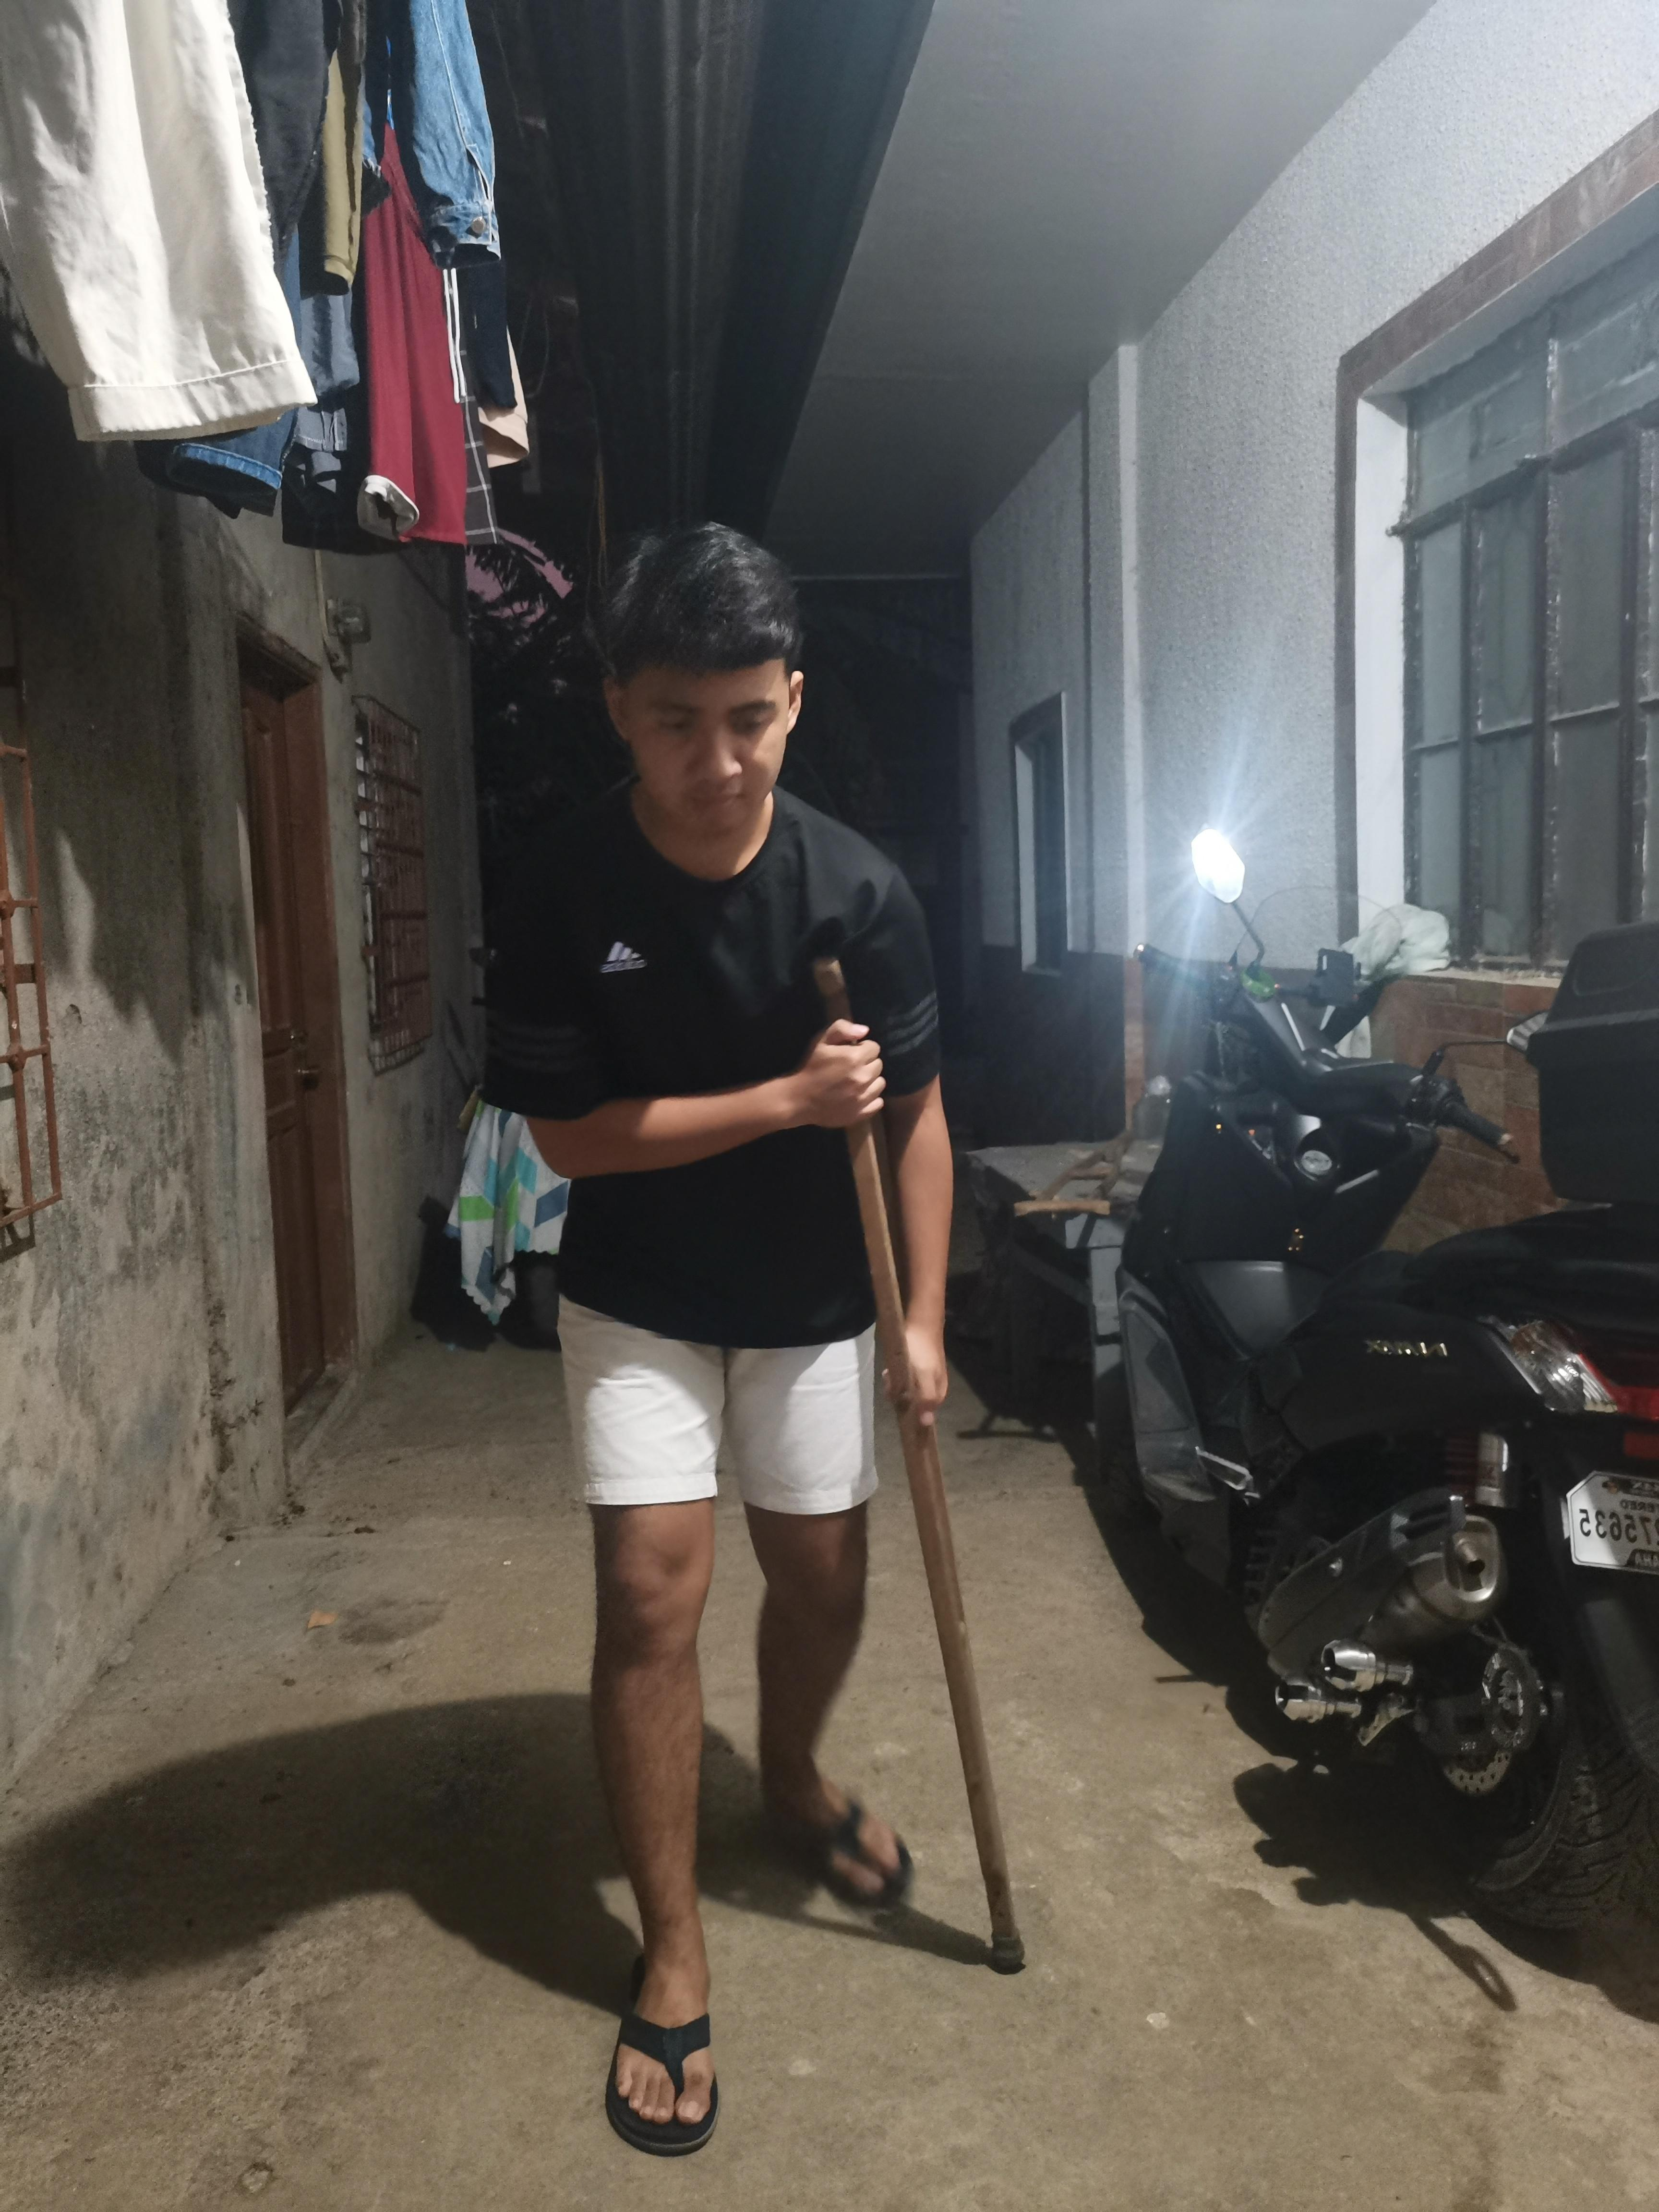crutches: (462, 505, 1040, 2165)
